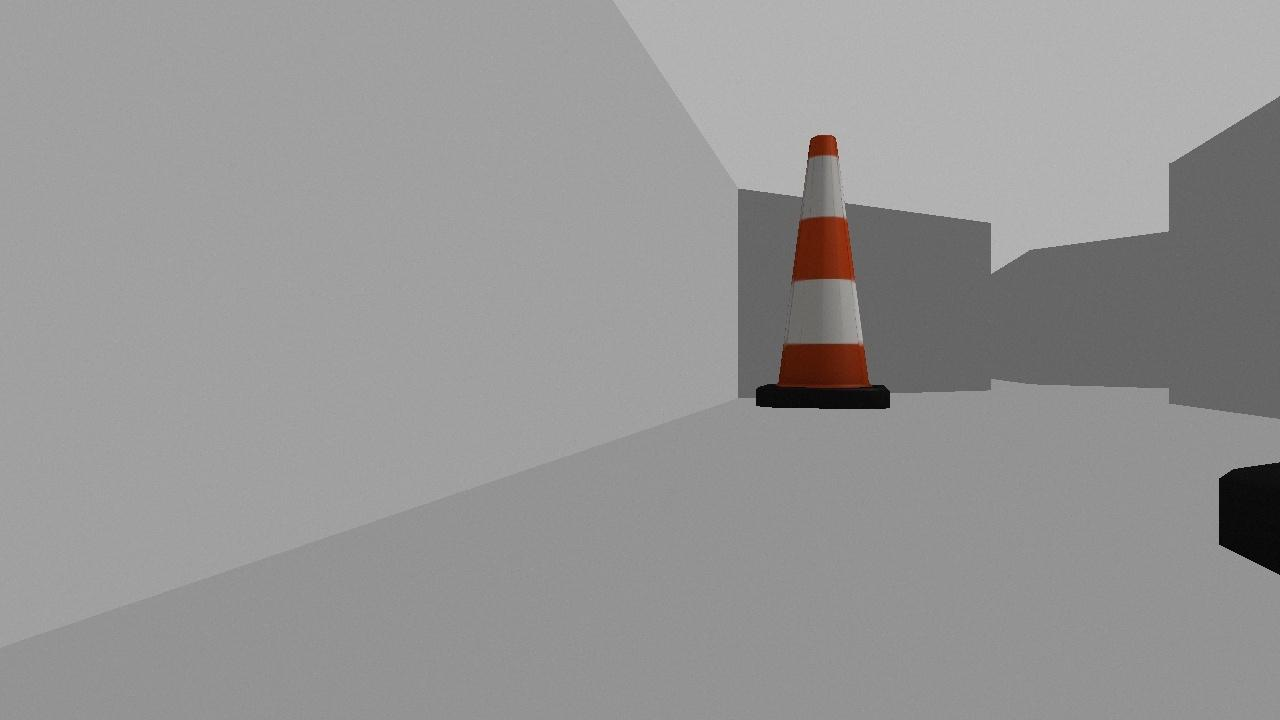cone_barrel: (754, 134, 889, 409)
